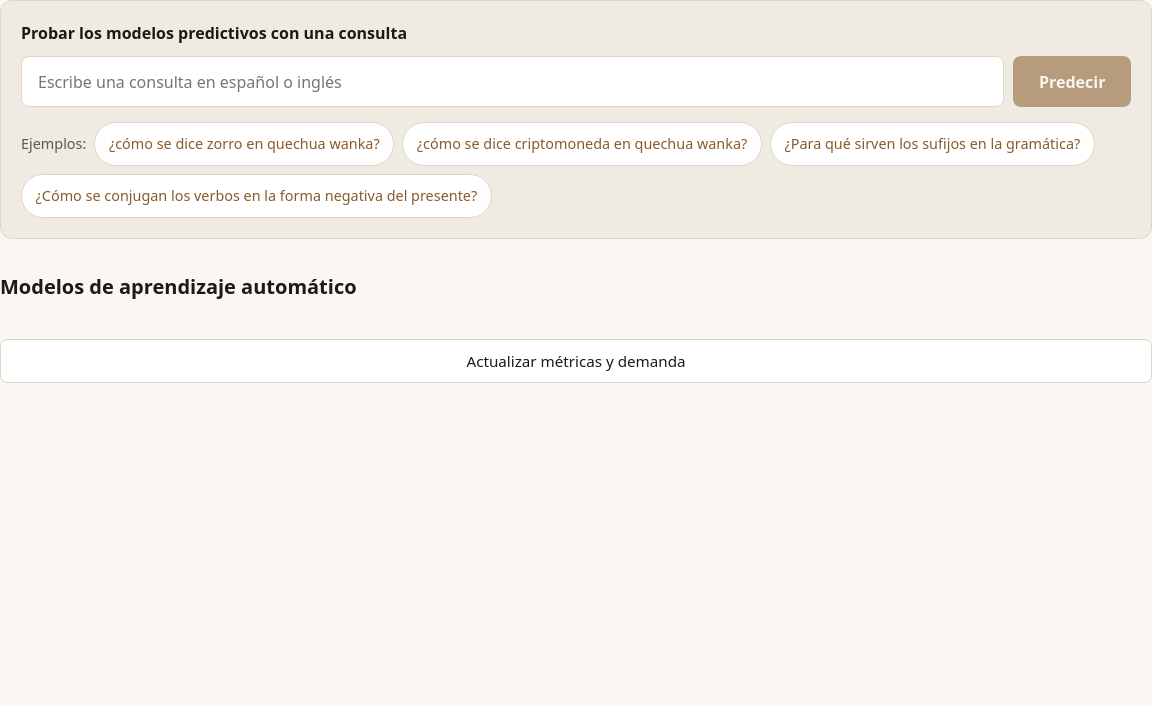
Scenario: PMV2 · panel de predicción › predice al pulsar un ejemplo y muestra las dos probabilidades
Click the button "¿cómo se dice zorro en quechua wanka?" at (244,144), box [94,122,394,166]
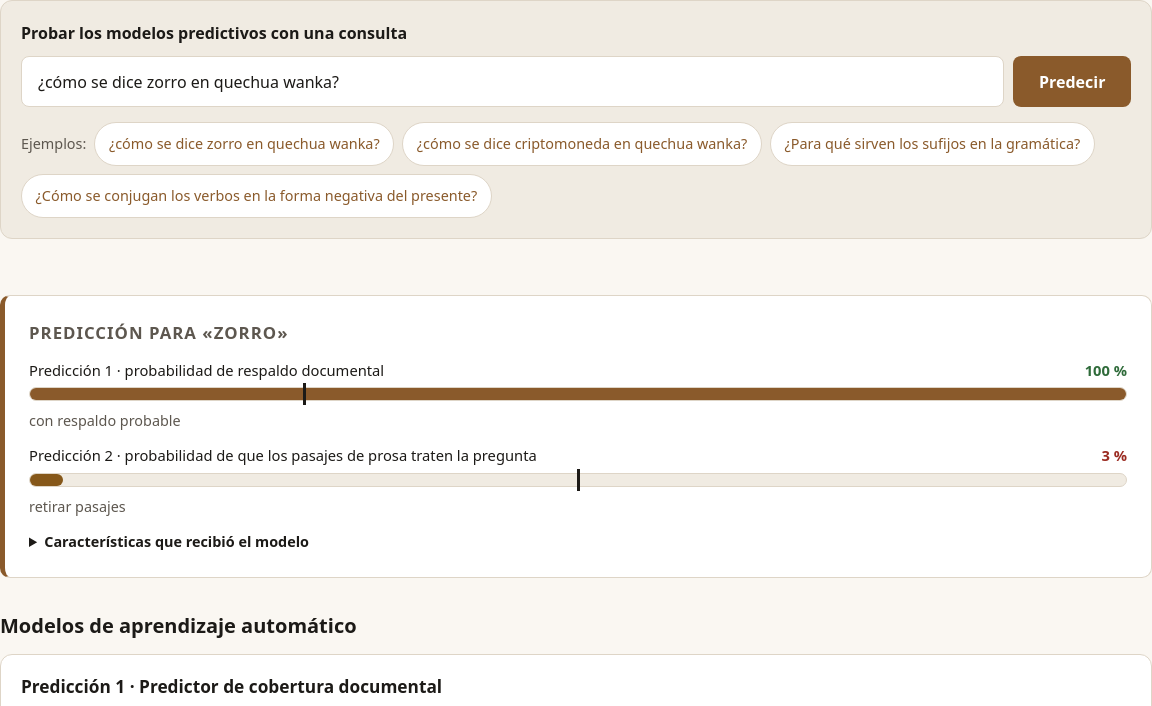
Now the element with test id "p-cobertura" is shown, box [29,359,1127,401]
Now the element with test id "p-pasajes" is shown, box [29,444,1127,487]
Now the text "con respaldo probable" is shown, box [29,411,181,430]
